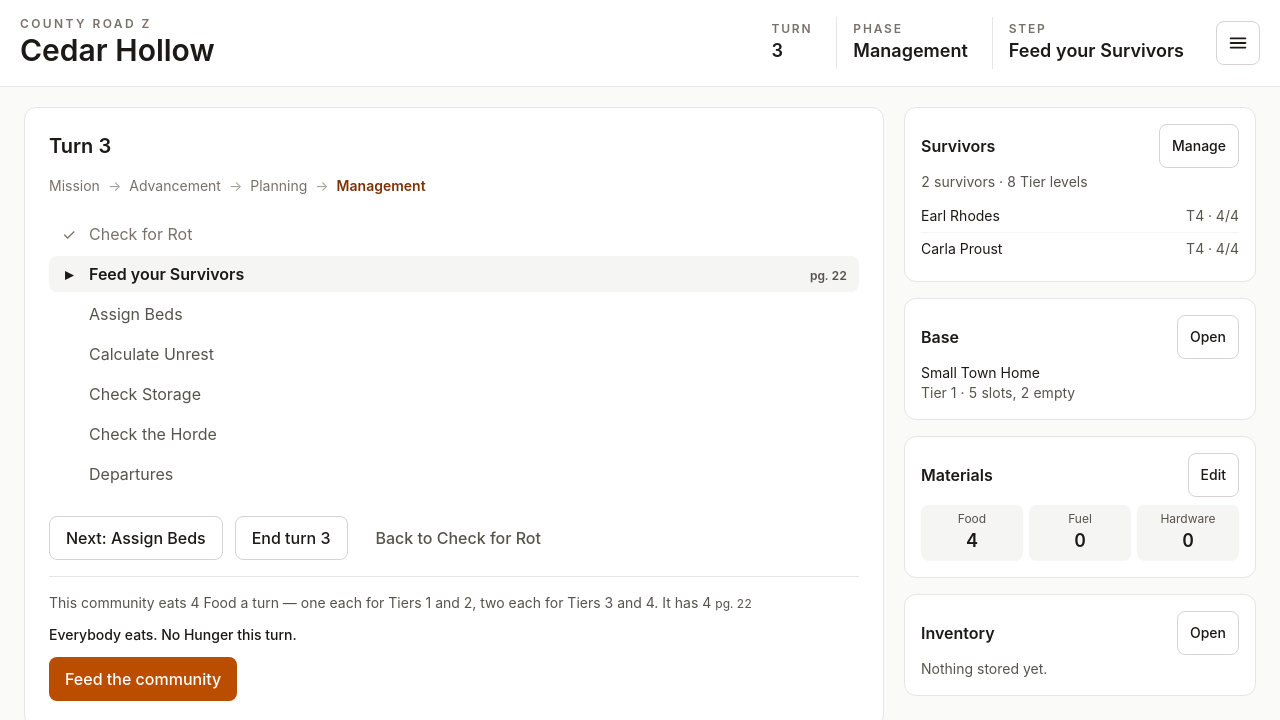
Scenario: Feed your Survivors › eats the Food, once
Click the button "Feed the community" at [143, 678], box [49, 656, 237, 700]
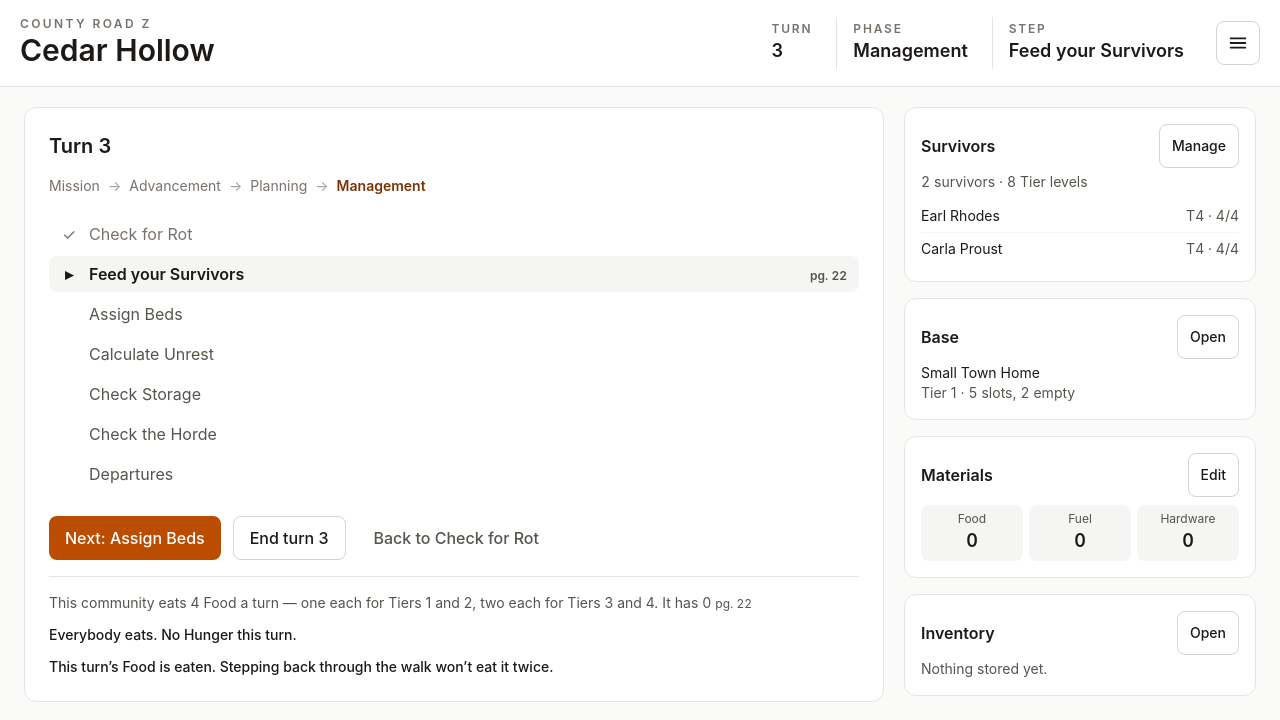
Check: the text "Food is eaten" is shown, box [49, 658, 553, 674]
Check: the button "Feed the community" is gone
